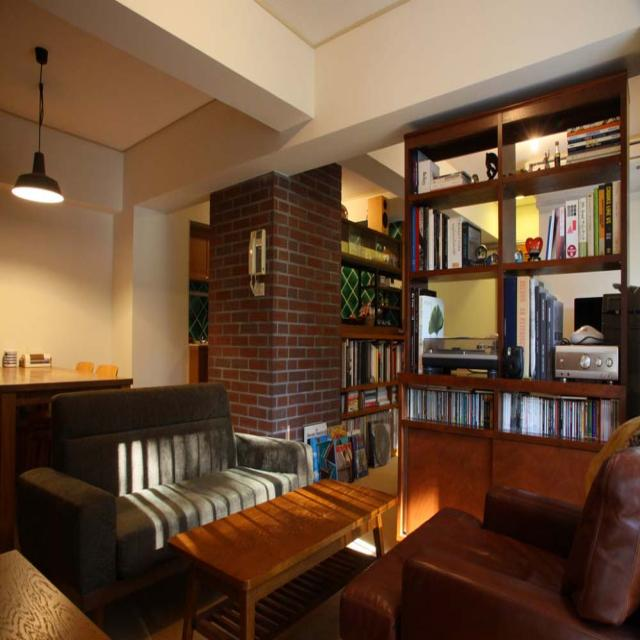vintage chair: (351, 410, 639, 640)
vintage desk: (167, 475, 400, 640)
vintage shelf: (400, 131, 630, 526)
vintage sofa: (18, 375, 310, 616)
